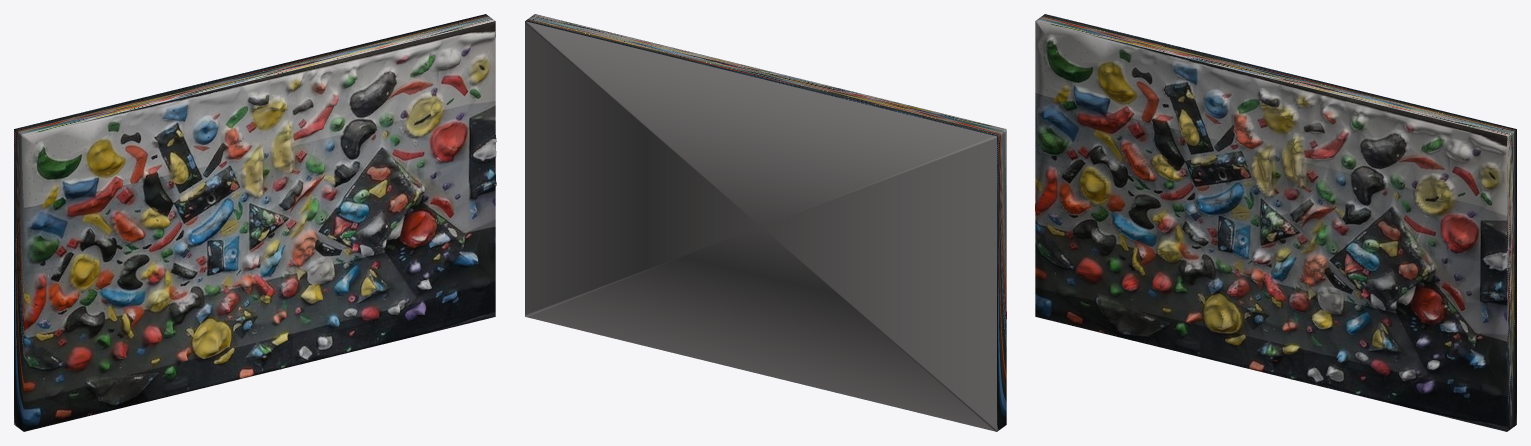
Rendered from photo-wall-relief-web.glb.
3 renders of one model, left to right at view 1: azimuth 30°, elevation 25°; view 2: azimuth 150°, elevation 25°; view 3: azimuth 330°, elevation 25°, orthographic.
Visible parts, largest first — view 1: Photo Wall Relief - one watertight stitched solid; view 2: Photo Wall Relief - one watertight stitched solid; view 3: Photo Wall Relief - one watertight stitched solid.
Part boxes in pixels (bbox=[...]): Photo Wall Relief - one watertight stitched solid: bbox=[14, 14, 496, 431]; Photo Wall Relief - one watertight stitched solid: bbox=[525, 14, 1006, 431]; Photo Wall Relief - one watertight stitched solid: bbox=[1035, 14, 1516, 431].
Bounding box in the file's own units: 3.6 × 2.15 × 0.2095.
Materials: 1 (1 with a texture image).
